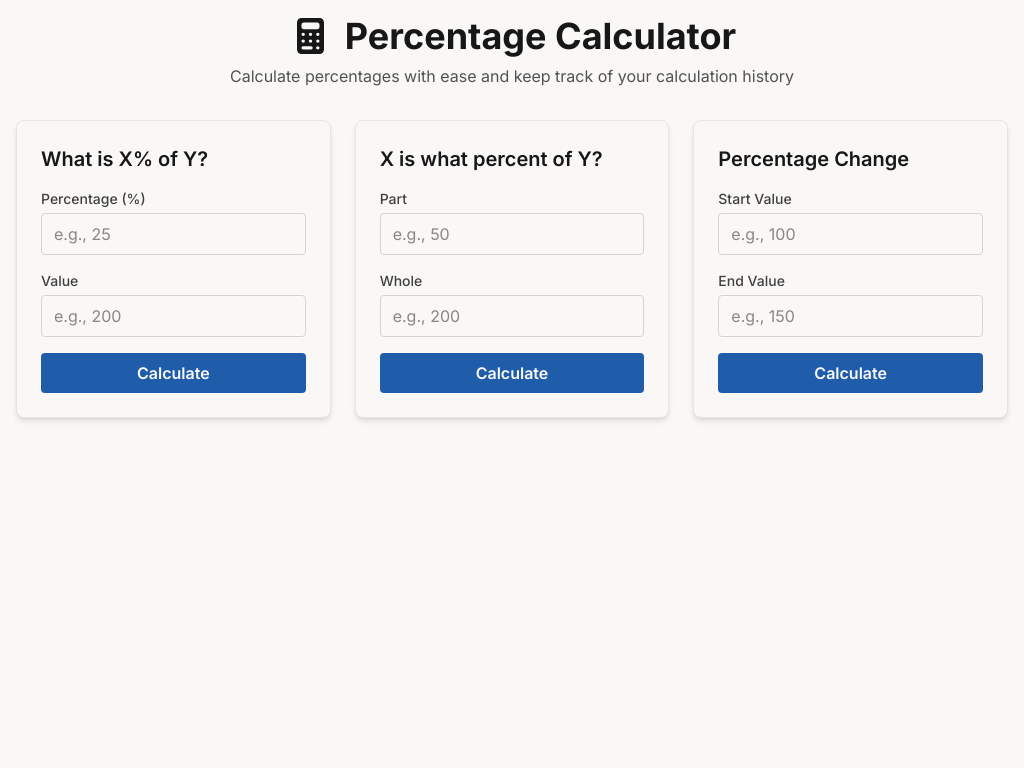
it: PercentageCalculator › What is X% of Y? Calculator › calculates percentage correctly
This screenshot has width=1024, height=768.
In the number field labelled "Percentage (%)": (173, 234) [41,213,306,255], type "25"
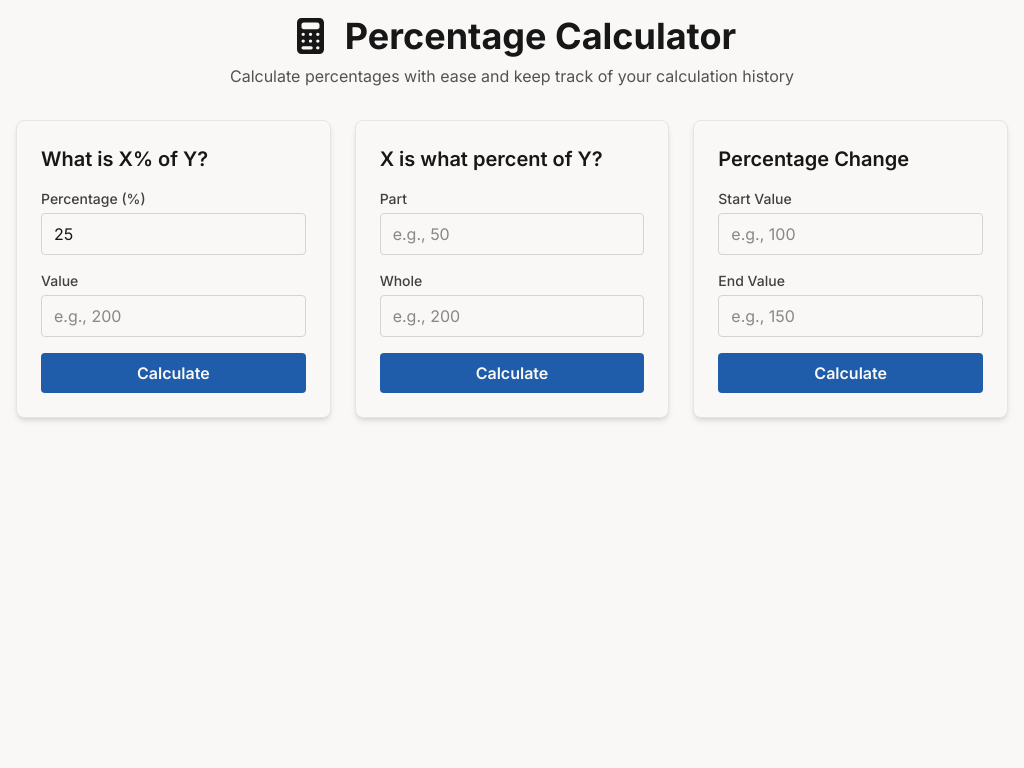
In the number field labelled "Value": (173, 316) [41,295,306,337], type "200"
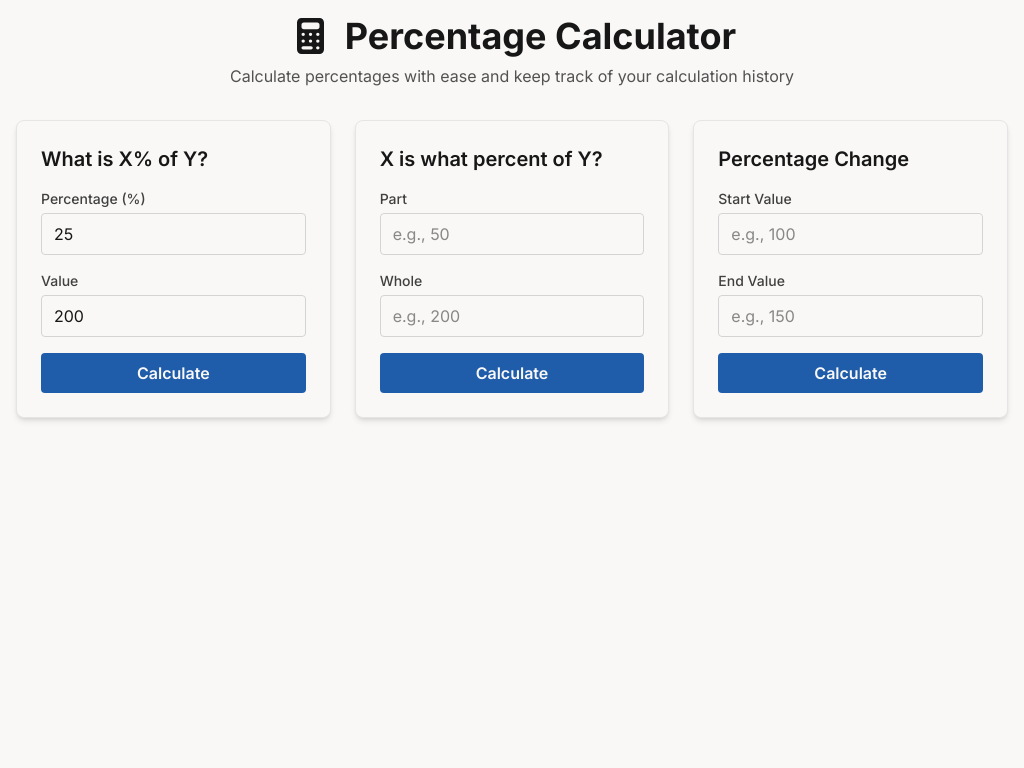
Click the button "Calculate" below "Percentage (%)": (173, 373) [41,353,306,393]
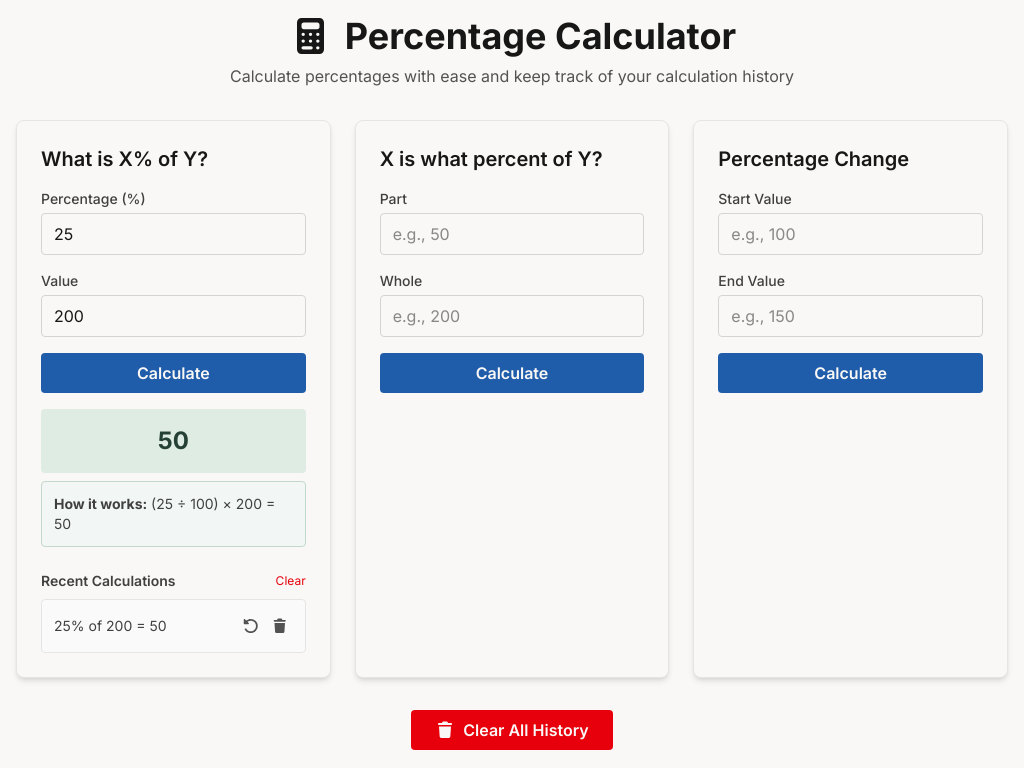
Expected: the text "50" is shown, [41,409,306,473]
